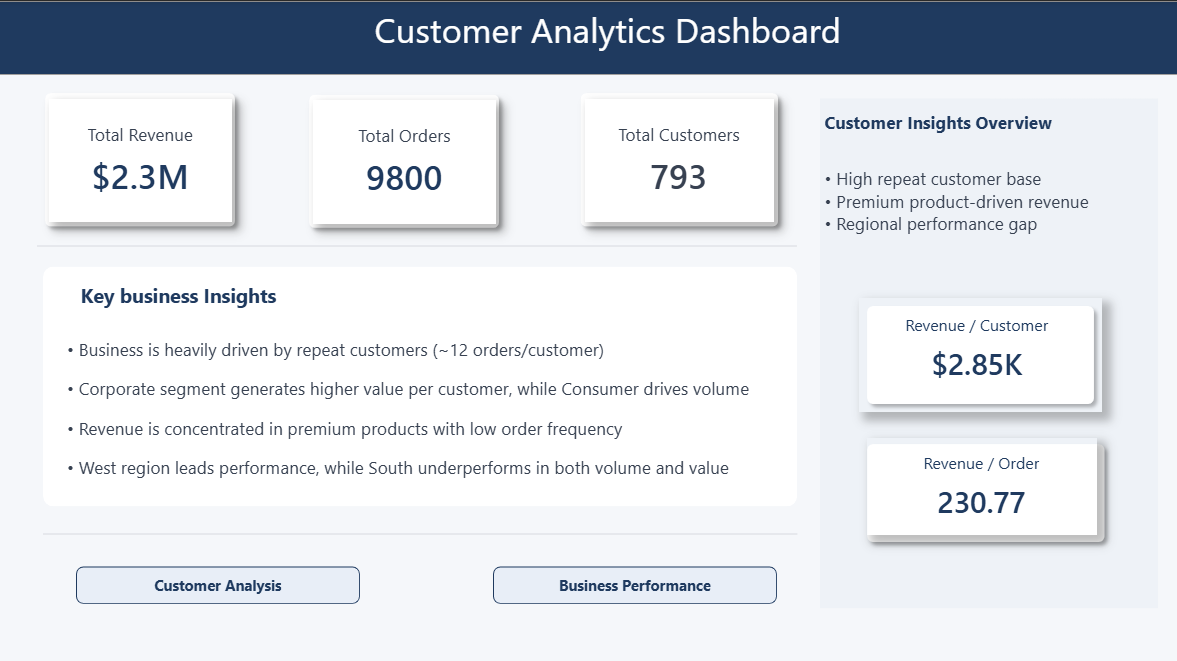

The page's visual inventory and layout, read from the dashboard file:
{"tool":"powerbi","page":{"name":"Home","canvas":[1280,720],"ordinal":0},"visuals":[{"type":"shape","box":[891.1,105.3,366.6,552.9],"z":0},{"type":"shape","box":[61.6,289.5,753.4,56.2],"z":0,"group":"g4"},{"type":"shape","box":[0,0,1280.1,80],"z":1000},{"type":"textbox","box":[66.4,292.7,262.5,53.7],"z":1000,"group":"g4"},{"type":"textbox","box":[403.4,0,554.7,79.7],"z":2000},{"type":"shape","box":[42.9,91.3,223.4,162],"z":2000,"group":"g3"},{"type":"shape","box":[48.6,287.6,817.8,260.2],"z":2000,"group":"g4"},{"type":"group","id":"g1","title":"Group 2","box":[328.6,92.7,222.8,162.7],"z":3000},{"type":"cardVisual","title":"Total Revenue","fields":{"Data":["Orders.Total Revenue"]},"box":[55.5,105.5,198.2,133.7],"z":3000,"group":"g3"},{"type":"textbox","box":[69.6,359.3,775.7,178.2],"z":3000,"group":"g4"},{"type":"group","id":"g2","title":"Group 3","box":[623,91.1,231,162.7],"z":4000},{"type":"shape","box":[328.6,92.7,223.4,162],"z":4000,"group":"g1"},{"type":"shape","box":[933.6,322.1,263.5,123.6],"z":4000,"group":"g5"},{"type":"shape","box":[933.6,471.7,274.9,123.6],"z":4000,"group":"g6"},{"type":"cardVisual","fields":{"Data":["Orders.Total Orders"]},"box":[341.2,106.9,198.2,133.7],"z":5000,"group":"g1"},{"type":"textbox","box":[891.8,174.2,328.1,115.4],"z":5000},{"type":"cardVisual","fields":{"Data":["Orders.Revenue per Customer"]},"box":[941.8,324,239.4,105.4],"z":5000,"group":"g5"},{"type":"cardVisual","fields":{"Data":["Orders.Revernue per Order"]},"box":[942.1,473.6,249.8,105.4],"z":5000,"group":"g6"},{"type":"shape","box":[623,91.1,231.7,162],"z":6000,"group":"g2"},{"type":"group","id":"g3","title":"Group 1","box":[42.9,91.3,222.8,162.7],"z":6000},{"type":"cardVisual","fields":{"Data":["Orders.Total Customers"]},"box":[636.1,105.3,205.5,133.7],"z":7000,"group":"g2"},{"type":"group","id":"g4","title":"Group 5","box":[48.6,287.6,817.8,260.2],"z":7000},{"type":"shape","box":[42.5,251.1,824.3,30.4],"z":8000},{"type":"actionButton","box":[85.1,613.7,307.8,40.5],"z":9000},{"type":"actionButton","box":[536.7,613.7,307.8,40.5],"z":10000},{"type":"textbox","box":[85.1,299.7,222.8,46.6],"z":11000},{"type":"shape","box":[48.6,563,818.2,30.4],"z":12000},{"type":"textbox","box":[891.8,113.4,328.1,50.6],"z":13000},{"type":"group","id":"g5","title":"Group 2","box":[933.6,322.1,263.5,123.6],"z":14000},{"type":"group","id":"g6","title":"Group 2","box":[933.6,471.7,274.9,123.6],"z":15000}]}

Visuals, with their boxes in screenshot pixels (x1, y1, x2, y2), scaled from the page's 1280x720 canvas onto the 1177x661 screenshot:
shape: (x1=819, y1=97, x2=1156, y2=604)
shape: (x1=57, y1=266, x2=749, y2=317)
shape: (x1=0, y1=0, x2=1176, y2=73)
textbox: (x1=61, y1=269, x2=302, y2=318)
textbox: (x1=371, y1=0, x2=881, y2=73)
shape: (x1=39, y1=84, x2=245, y2=233)
shape: (x1=45, y1=264, x2=797, y2=503)
"Group 2" group: (x1=302, y1=85, x2=507, y2=234)
"Total Revenue" cardVisual: (x1=51, y1=97, x2=233, y2=220)
textbox: (x1=64, y1=330, x2=777, y2=493)
"Group 3" group: (x1=573, y1=84, x2=785, y2=233)
shape: (x1=302, y1=85, x2=508, y2=234)
shape: (x1=858, y1=296, x2=1101, y2=409)
shape: (x1=858, y1=433, x2=1111, y2=547)
cardVisual - Orders.Total Orders: (x1=314, y1=98, x2=496, y2=221)
textbox: (x1=820, y1=160, x2=1122, y2=266)
cardVisual - Orders.Revenue per Customer: (x1=866, y1=297, x2=1086, y2=394)
cardVisual - Orders.Revernue per Order: (x1=866, y1=435, x2=1096, y2=532)
shape: (x1=573, y1=84, x2=786, y2=232)
"Group 1" group: (x1=39, y1=84, x2=244, y2=233)
cardVisual - Orders.Total Customers: (x1=585, y1=97, x2=774, y2=219)
"Group 5" group: (x1=45, y1=264, x2=797, y2=503)
shape: (x1=39, y1=231, x2=797, y2=258)
actionButton: (x1=78, y1=563, x2=361, y2=601)
actionButton: (x1=494, y1=563, x2=777, y2=601)
textbox: (x1=78, y1=275, x2=283, y2=318)
shape: (x1=45, y1=517, x2=797, y2=545)
textbox: (x1=820, y1=104, x2=1122, y2=151)
"Group 2" group: (x1=858, y1=296, x2=1101, y2=409)
"Group 2" group: (x1=858, y1=433, x2=1111, y2=547)
